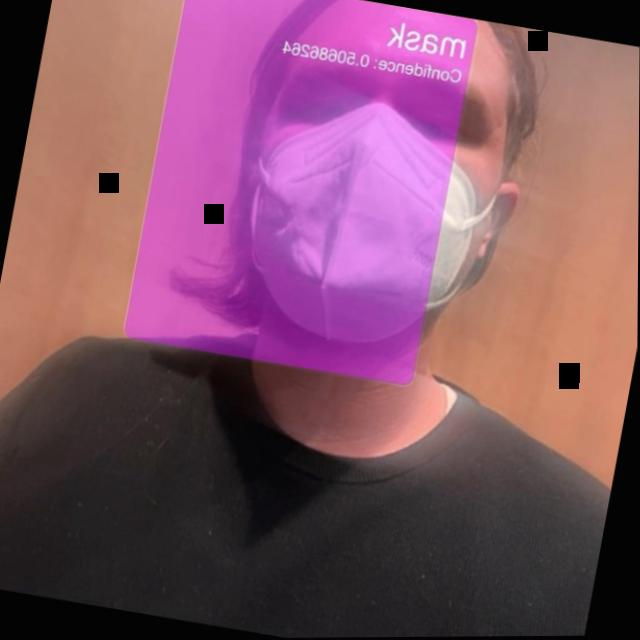Mask: (129, 0, 560, 424)
